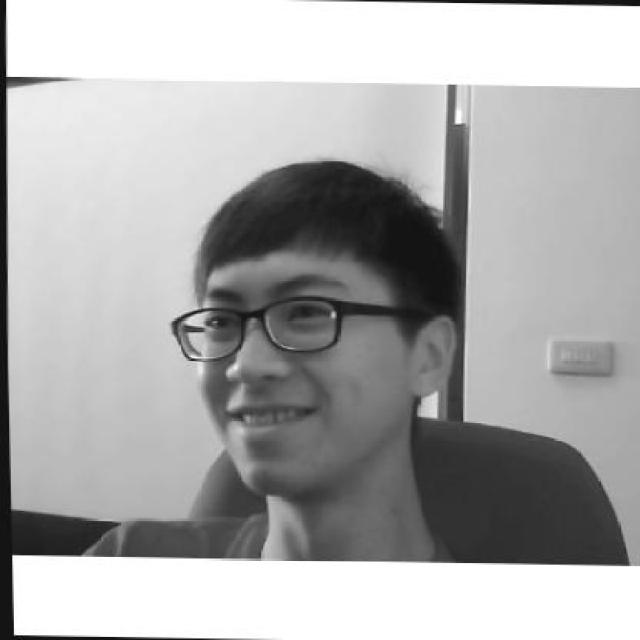attentif: (165, 157, 462, 489)
